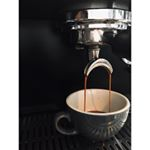cups: (53, 86, 131, 144)
